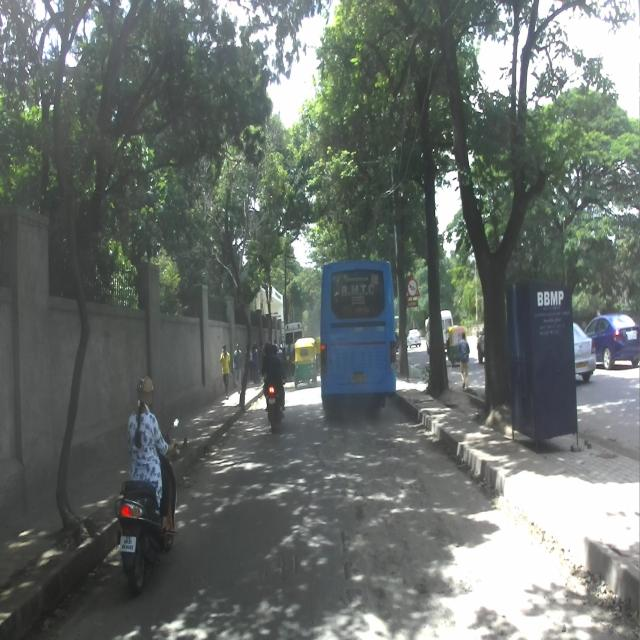scooter: (114, 417, 180, 596)
